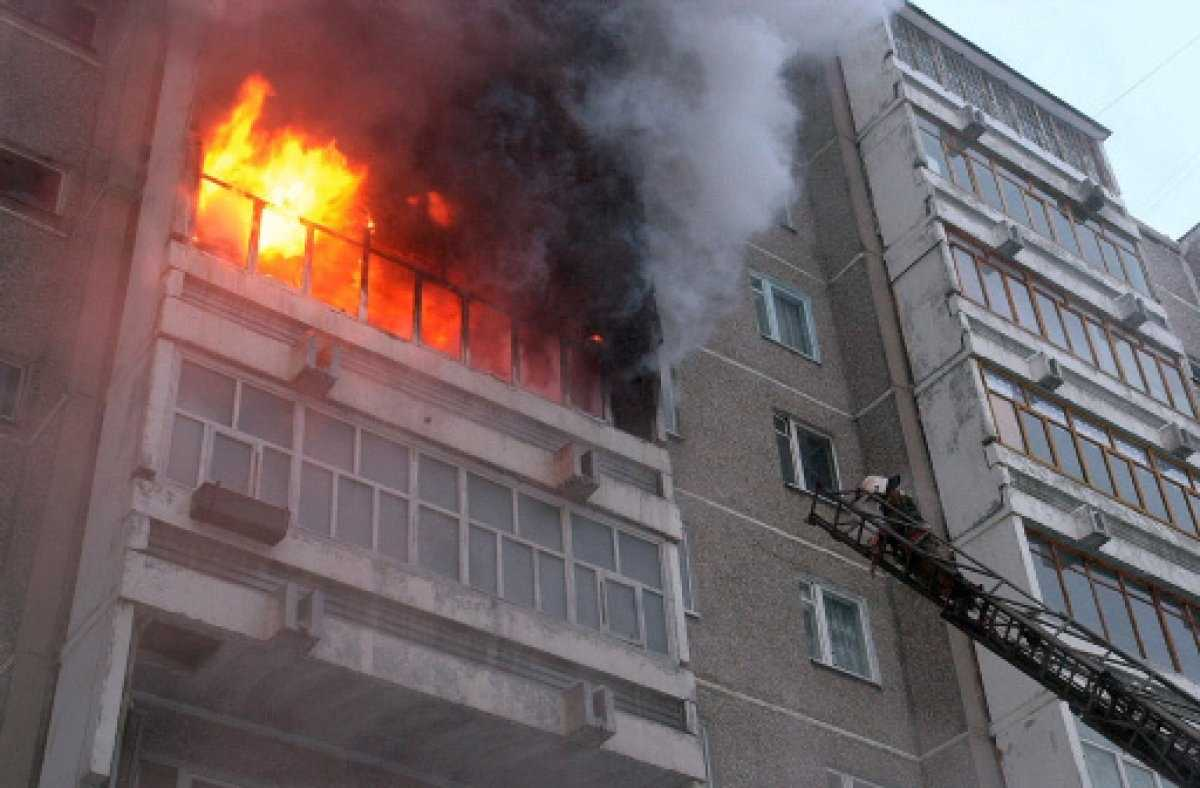fire: (206, 40, 737, 330)
